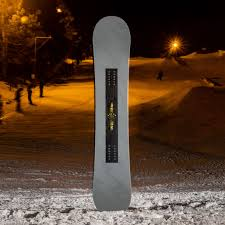snowboard: (92, 13, 133, 213)
